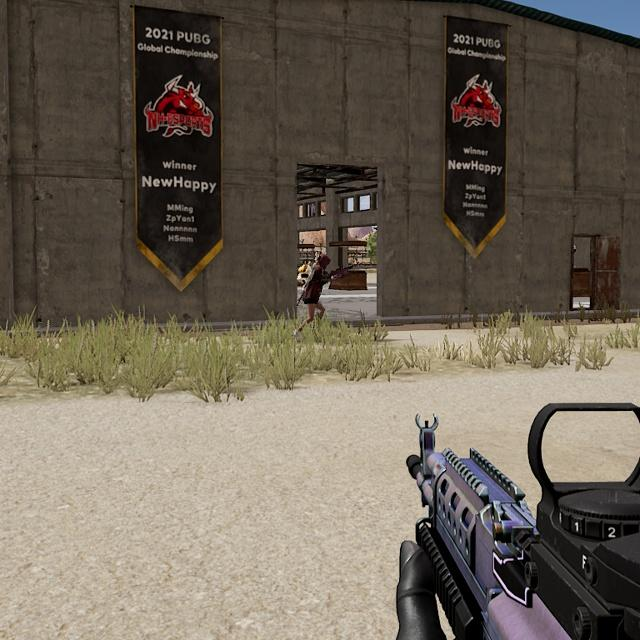head: (317, 253, 332, 271)
people: (292, 253, 334, 339)
